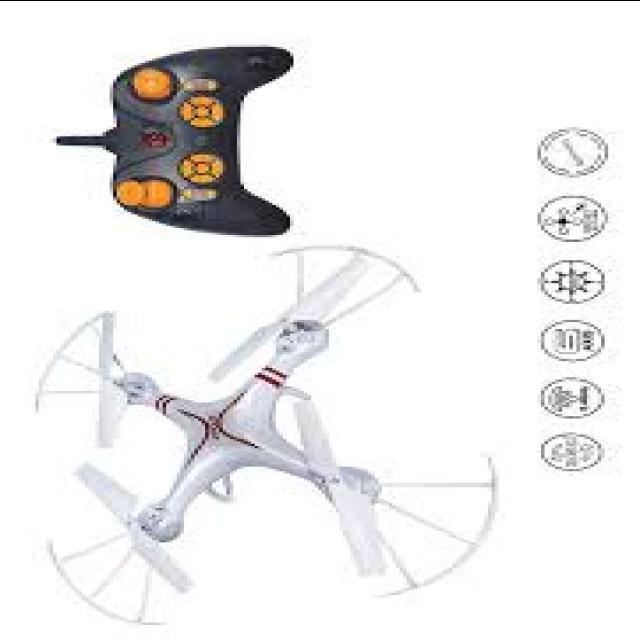drone: (20, 235, 512, 638)
